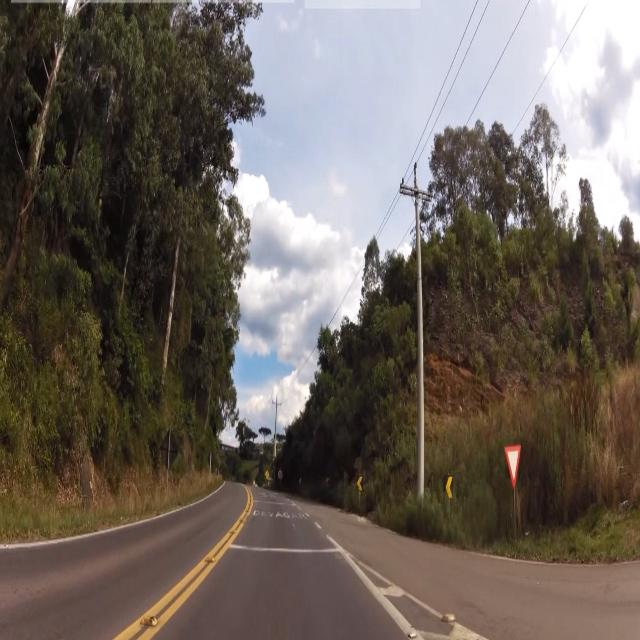Del: (444, 471, 456, 502), (355, 473, 364, 490)
R-2: (504, 436, 526, 495)
